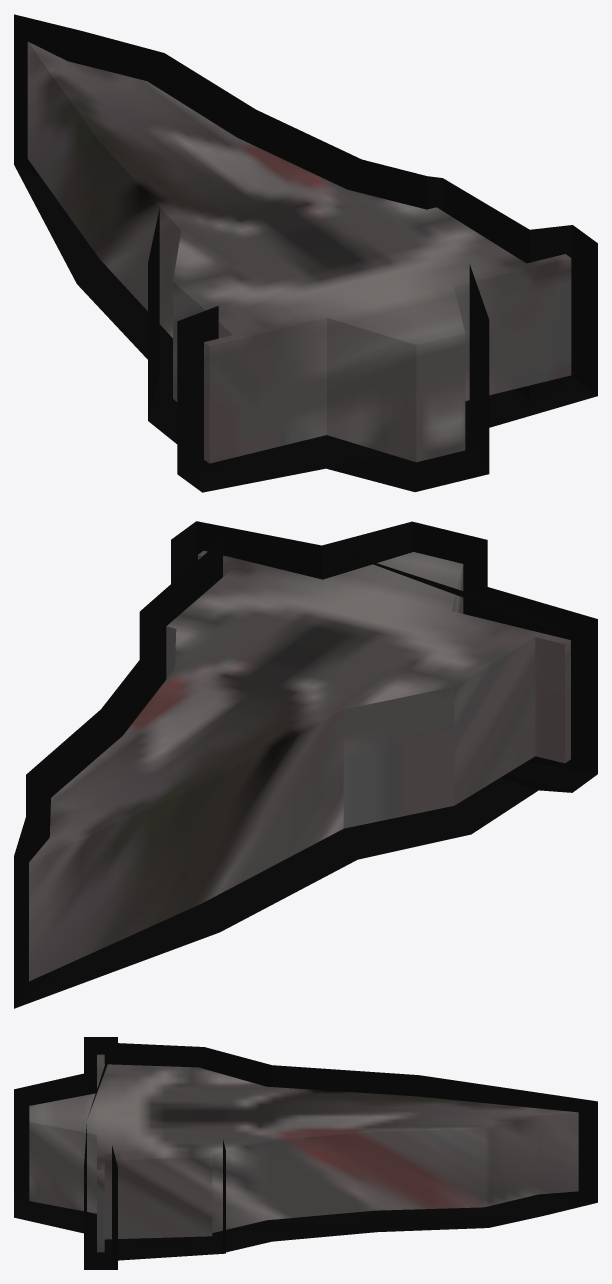
Rendered from Building_ShardBeacon_Things_Building_ShardBeacon.glb.
The picture shows the model from 3 angles, top to bottom: view 1: azimuth 30°, elevation 25°; view 2: azimuth 150°, elevation 25°; view 3: azimuth 270°, elevation 25°; orthographic projection. The views are drawn at different scales.
Visible parts, largest first — view 1: Body, Outline; view 2: Body, Outline; view 3: Body, Outline.
Part boxes in pixels (x1,y1,x2,y2): Body: (27, 42, 571, 463); Outline: (14, 14, 597, 492); Body: (29, 550, 570, 981); Outline: (14, 521, 597, 1008); Body: (29, 1054, 578, 1252); Outline: (14, 1037, 597, 1269).
Size of the model in its own units: 0.6323 by 0.2632 by 1.2.
Materials: 2 (1 with a texture image).
